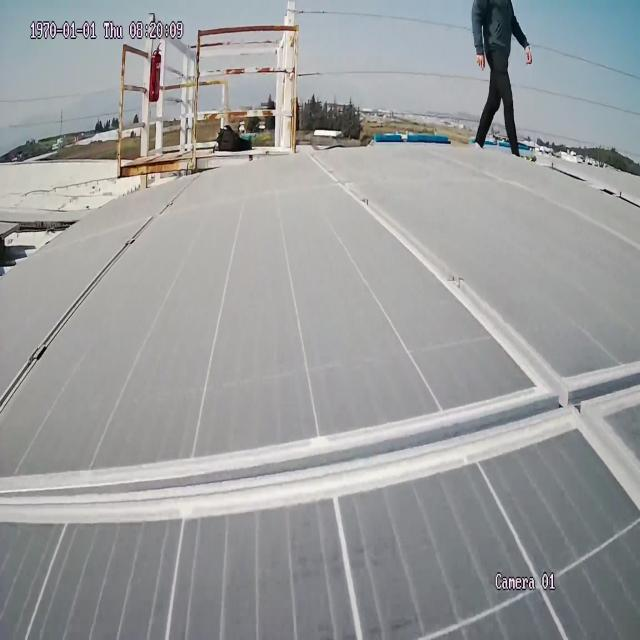interior panel: (0, 144, 640, 544)
outher panel: (0, 210, 91, 304)
